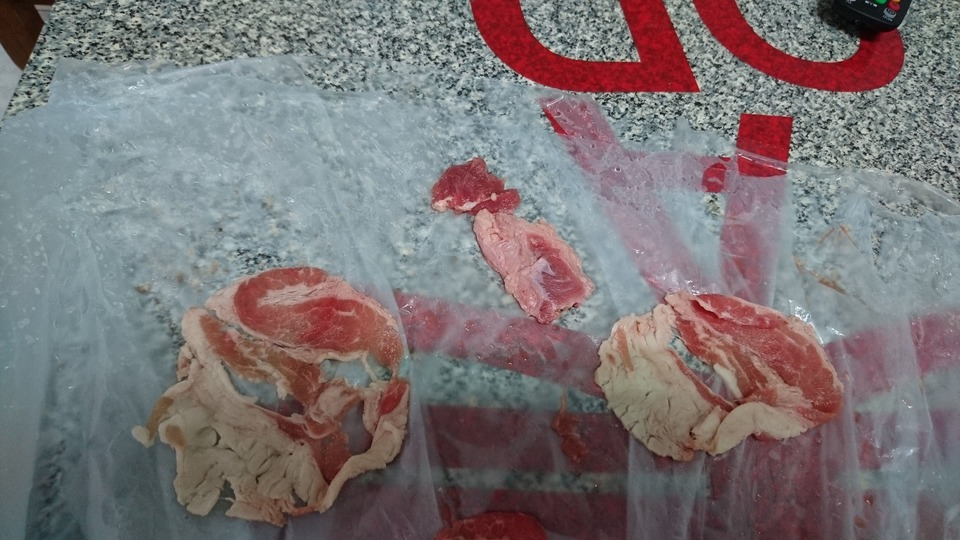restructured meat: (147, 269, 407, 524), (596, 285, 851, 464), (431, 151, 589, 325)
